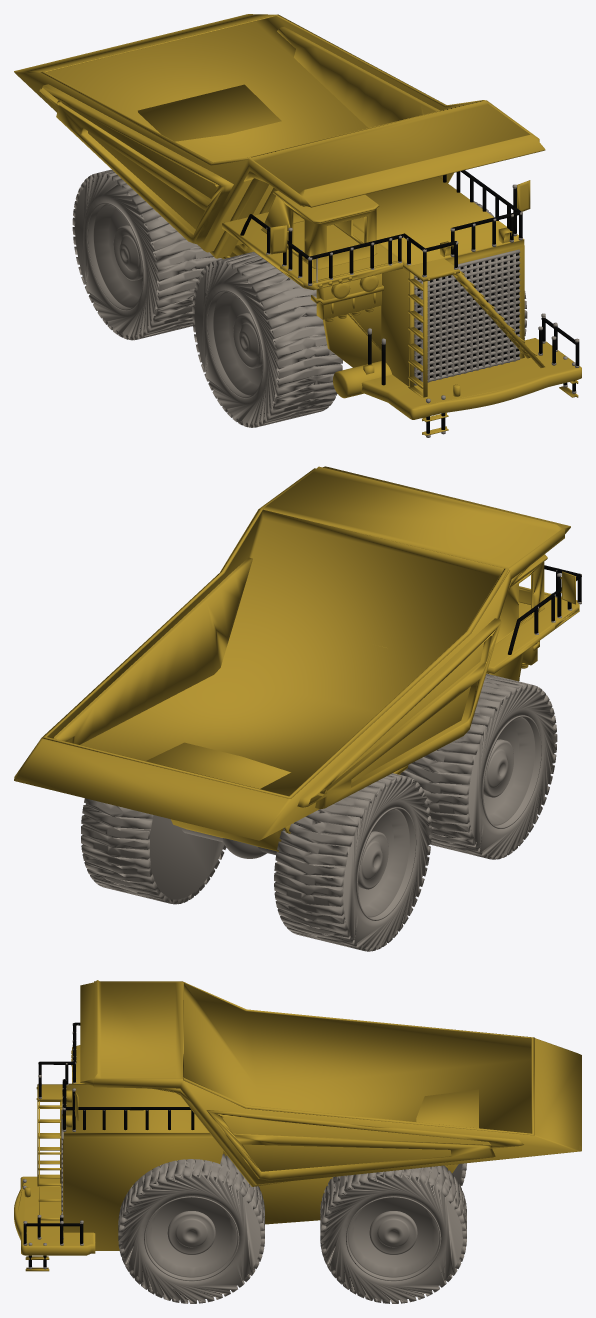
Rendered from haul.glb.
3 views of the same model, one above another, from view 1: azimuth 30°, elevation 25°; view 2: azimuth 150°, elevation 25°; view 3: azimuth 270°, elevation 25° (orthographic). The views are drawn at different scales.
Parts seen in each view (by area): view 1: Object_2, Object_5, Object_4, Object_7, Object_8, Object_10, Object_3, Object_6; view 2: Object_2, Object_4, Object_7, Object_8, Object_5, Object_6, Object_10, Object_3; view 3: Object_2, Object_7, Object_8, Object_5, Object_4, Object_10, Object_6.
Boxes of the visible parts, x1=… form: Object_2: x1=14, y1=14, x2=581, y2=435; Object_5: x1=79, y1=196, x2=526, y2=427; Object_4: x1=98, y1=169, x2=527, y2=426; Object_7: x1=72, y1=173, x2=545, y2=427; Object_8: x1=87, y1=184, x2=579, y2=437; Object_10: x1=240, y1=170, x2=579, y2=433; Object_3: x1=221, y1=184, x2=524, y2=402; Object_6: x1=73, y1=170, x2=493, y2=398; Object_2: x1=14, y1=466, x2=579, y2=851; Object_4: x1=81, y1=673, x2=530, y2=949; Object_7: x1=116, y1=684, x2=557, y2=951; Object_8: x1=356, y1=568, x2=581, y2=920; Object_5: x1=181, y1=674, x2=556, y2=926; Object_6: x1=81, y1=573, x2=559, y2=951; Object_10: x1=508, y1=565, x2=581, y2=654; Object_3: x1=461, y1=557, x2=579, y2=722; Object_2: x1=14, y1=980, x2=581, y2=1271; Object_7: x1=61, y1=1062, x2=466, y2=1303; Object_8: x1=23, y1=1023, x2=441, y2=1281; Object_5: x1=61, y1=1102, x2=451, y2=1303; Object_4: x1=118, y1=1154, x2=466, y2=1234; Object_10: x1=23, y1=1022, x2=194, y2=1267; Object_6: x1=217, y1=1155, x2=466, y2=1296.
Bounding box in the file's own units: 32.23 × 31.65 × 71.7.
